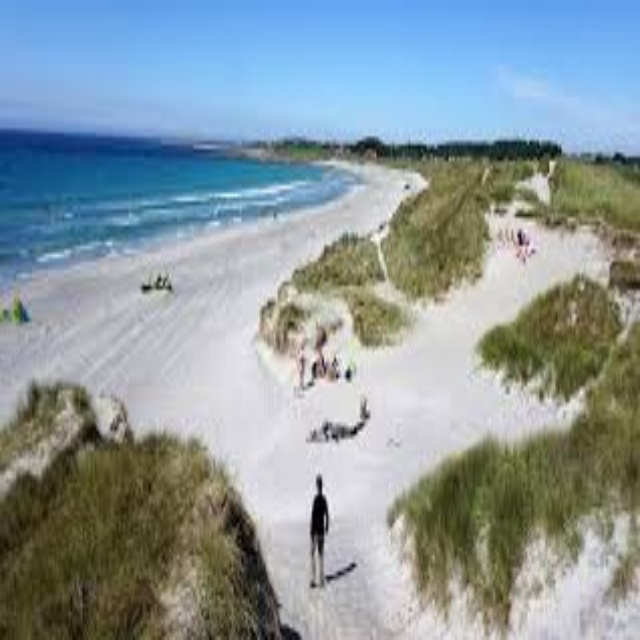linhaEspraiamento: (9, 220, 265, 288), (186, 197, 326, 236), (274, 166, 380, 214)
